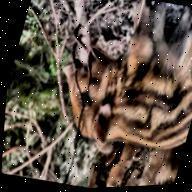boar: (39, 0, 192, 173)
